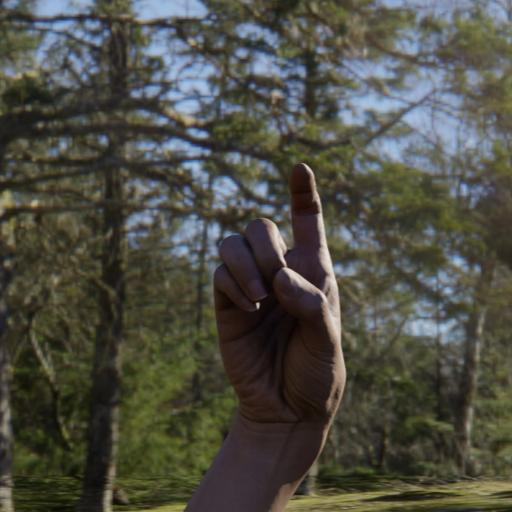X: (202, 157, 353, 451)
